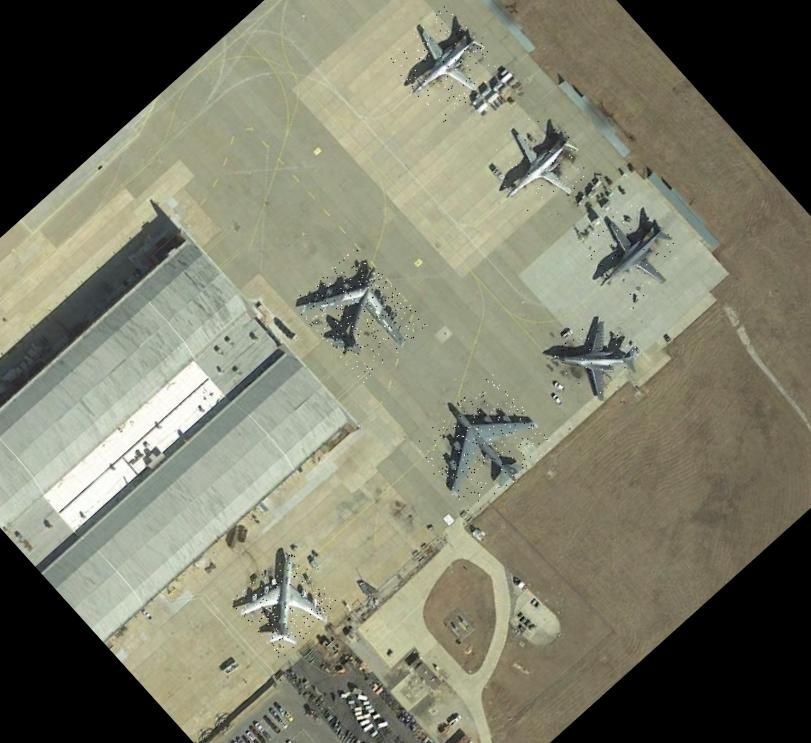A10: (479, 105, 600, 226), (384, 4, 503, 122), (574, 195, 689, 312), (549, 306, 647, 404)
A11: (229, 548, 340, 658)
A8: (408, 372, 555, 518), (290, 244, 428, 382)
